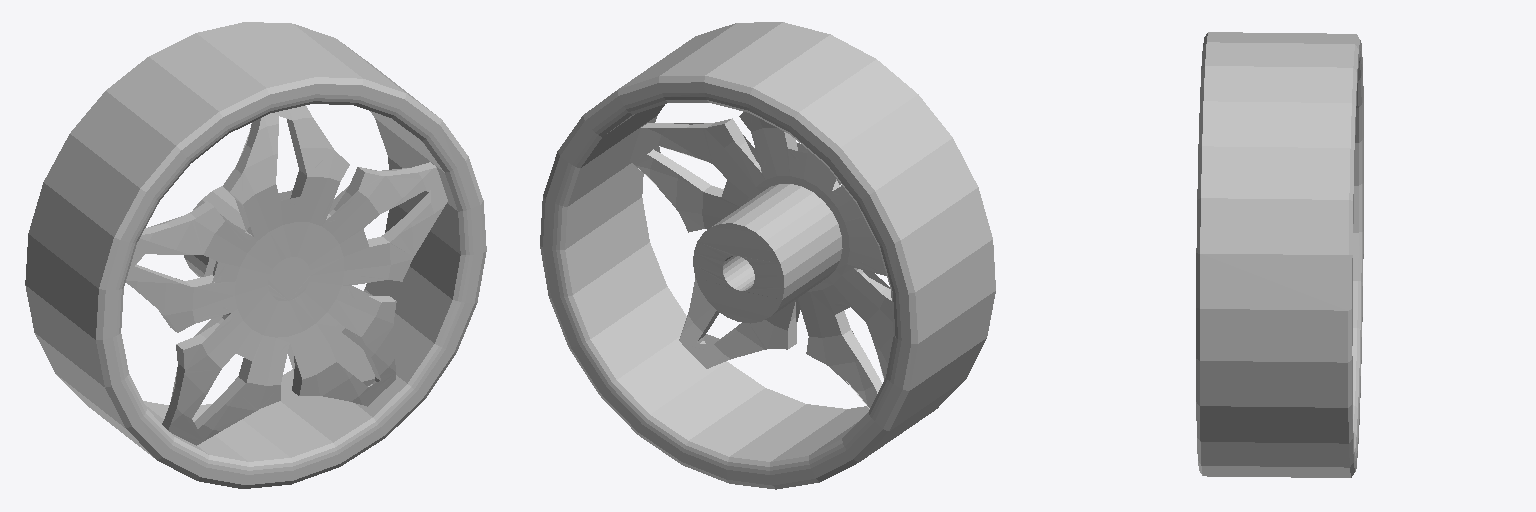
File: llanta_del_izqP7.obj
3 views of the same model, side by side, from view 1: azimuth 30°, elevation 25°; view 2: azimuth 150°, elevation 25°; view 3: azimuth 270°, elevation 25° (orthographic).
Visible parts, largest first — view 1: car.062, car.061; view 2: car.062, car.061; view 3: car.062.
Part boxes in pixels (bbox=[...]): car.062: bbox=[25, 22, 486, 488]; car.061: bbox=[126, 105, 447, 445]; car.062: bbox=[540, 22, 995, 489]; car.061: bbox=[630, 112, 893, 408]; car.062: bbox=[1196, 32, 1363, 477].
Size of the model in its own units: 0.7865 by 0.7779 by 0.2951.